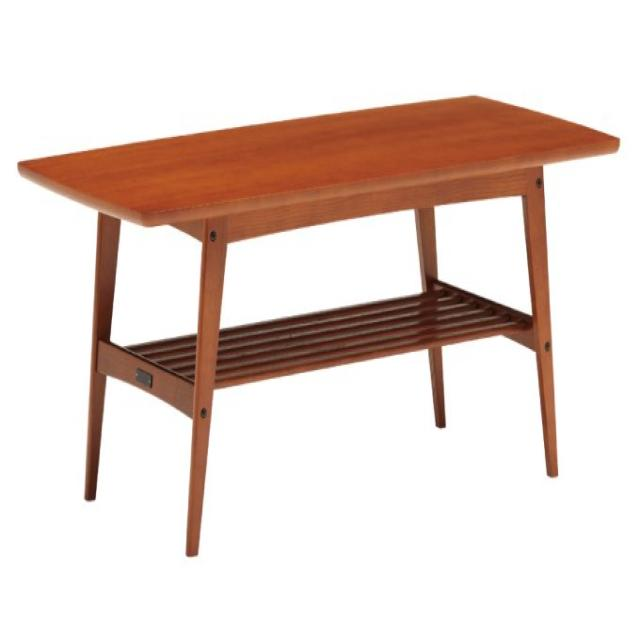vintage desk: (12, 86, 618, 560)
